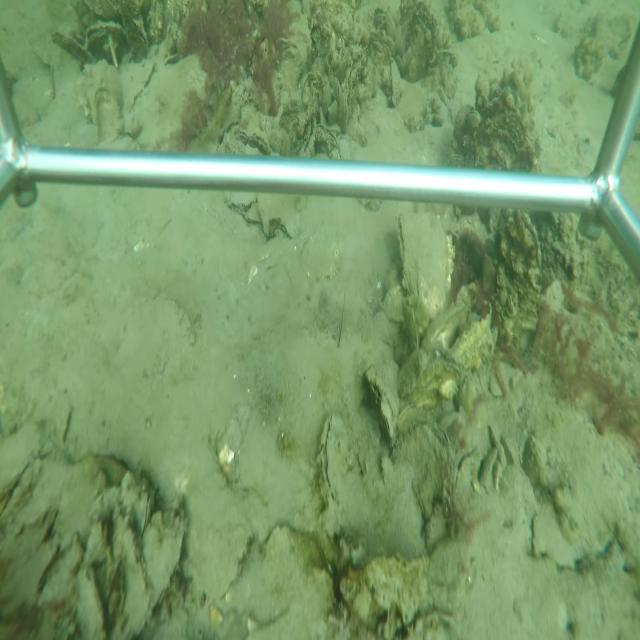Oyster-Closed: (114, 505, 189, 636), (395, 209, 457, 322), (315, 412, 350, 511), (366, 371, 398, 459), (450, 445, 479, 526), (84, 19, 130, 65), (124, 16, 149, 52), (134, 490, 153, 536), (386, 57, 402, 106), (338, 90, 349, 135), (333, 75, 342, 103)
Oyster-Indeterminate: (117, 61, 157, 117)
